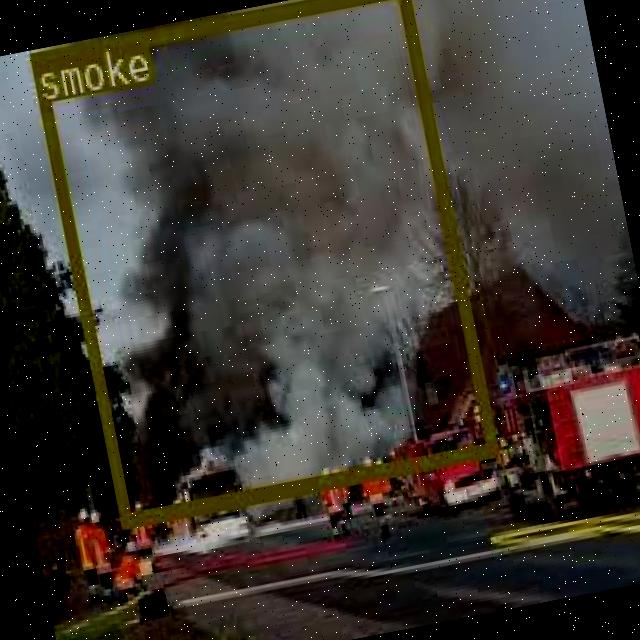smoke: (27, 0, 495, 527)
